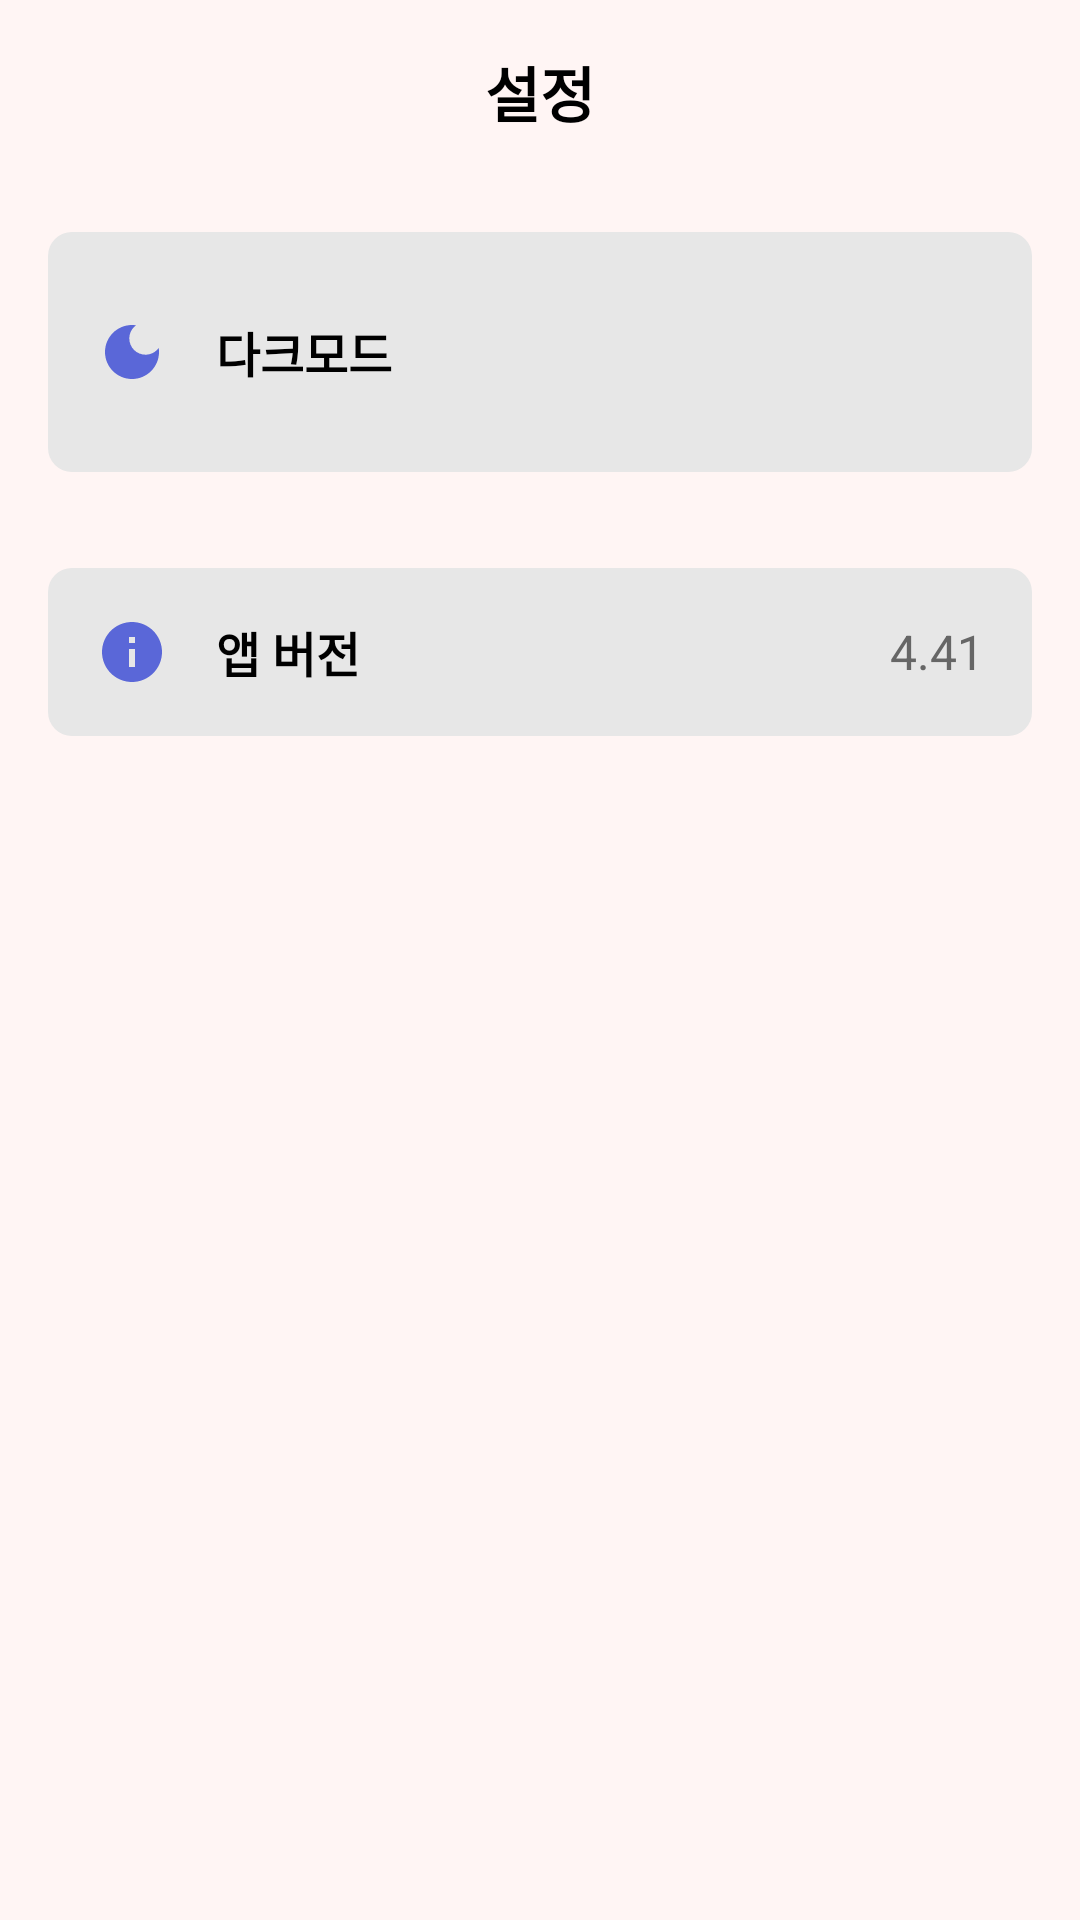

Icons on this 1080x1920 Android screen, each with the point to tap as (x=x, y=y):
info: (x=132, y=652)
mode: (x=132, y=352)
